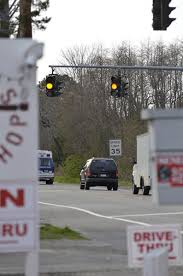speedLimit35: (108, 138, 123, 156)
